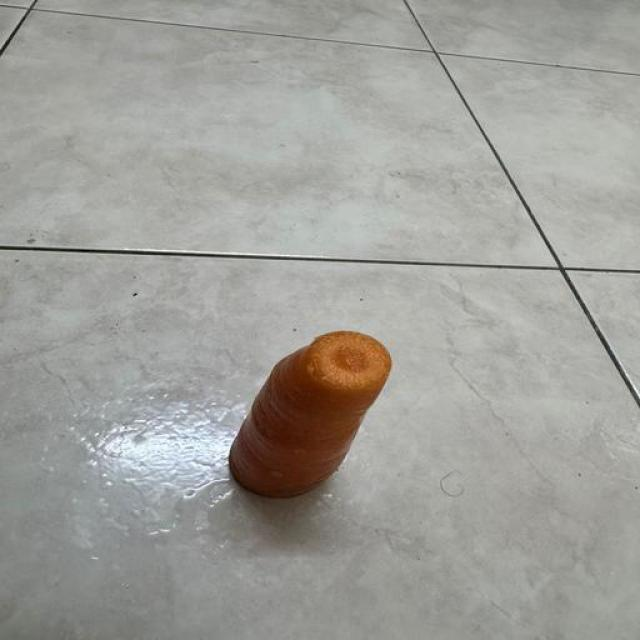organic: (230, 332, 391, 497)
